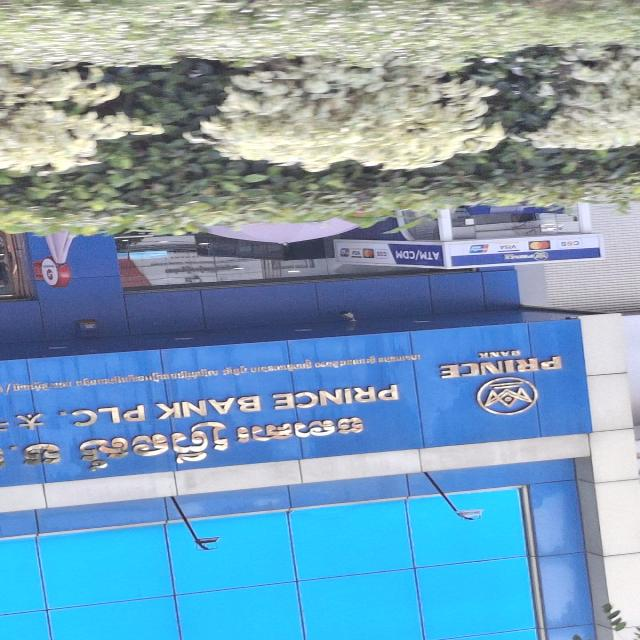1: (9, 417, 236, 496)
Yolov11kh: (233, 409, 378, 455)
